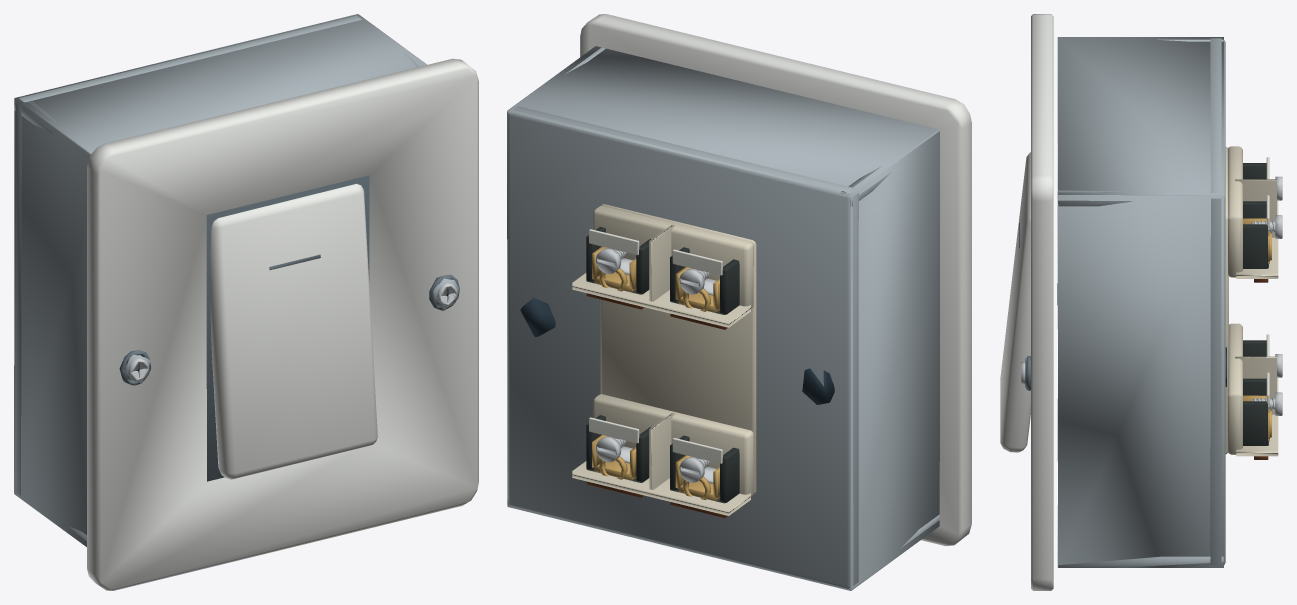
The model's file is intermediate_single-rocker.low.glb.
The picture shows the model from 3 angles, left to right: view 1: azimuth 30°, elevation 25°; view 2: azimuth 150°, elevation 25°; view 3: azimuth 270°, elevation 25°; orthographic projection. The views are drawn at different scales.
Visible parts, largest first — view 1: part:cover, part:body · Original 2a8198d3, motion:rocker, part:actuator, detail:faceplate-fixing · Detail zinc plated fixing, part:cover · Original 0905ee26; view 2: part:body · Original 2a8198d3, part:terminals · Original 5a609f27, part:cover, part:body · Original a463fd81, detail:terminal-clamp:A · Detail moulded engineering polymer, detail:terminal-clamp:C · Detail moulded engineering polymer, detail:terminal-clamp:B · Detail moulded engineering polymer, detail:terminal-clamp:D · Detail moulded engineering polymer, detail:terminal-clamp:B · Detail machined brass, detail:terminal-clamp:C · Detail machined brass, detail:terminal-clamp:A · Detail machined brass, detail:terminal-clamp:D · Detail machined brass (+8 smaller); view 3: part:body · Original 2a8198d3, part:cover, part:terminals · Original 5a609f27, motion:rocker, detail:terminal-clamp:B · Detail moulded engineering polymer, detail:terminal-clamp:D · Detail moulded engineering polymer, detail:terminal-clamp:A · Detail moulded engineering polymer, detail:terminal-clamp:C · Detail moulded engineering polymer.
Part boxes in pixels (x1,y1,x2,y2): part:cover: (87,58,478,590); part:body · Original 2a8198d3: (14,14,427,546); motion:rocker: (210,183,377,479); part:actuator: (206,175,369,481); detail:faceplate-fixing · Detail zinc plated fixing: (128,283,457,381); part:cover · Original 0905ee26: (119,274,459,385); part:body · Original 2a8198d3: (507,46,939,590); part:terminals · Original 5a609f27: (572,204,756,515); part:cover: (580,14,971,546); part:body · Original a463fd81: (520,298,834,404); detail:terminal-clamp:A · Detail moulded engineering polymer: (670,247,739,314); detail:terminal-clamp:C · Detail moulded engineering polymer: (670,435,739,503); detail:terminal-clamp:B · Detail moulded engineering polymer: (586,227,650,294); detail:terminal-clamp:D · Detail moulded engineering polymer: (586,415,651,482); detail:terminal-clamp:B · Detail machined brass: (592,246,636,292); detail:terminal-clamp:C · Detail machined brass: (675,455,719,500); detail:terminal-clamp:A · Detail machined brass: (675,267,719,312); detail:terminal-clamp:D · Detail machined brass: (592,435,636,480); part:body · Original 2a8198d3: (1057,37,1225,567); part:cover: (1031,14,1053,590); part:terminals · Original 5a609f27: (1225,146,1278,456); motion:rocker: (1000,152,1030,452); detail:terminal-clamp:B · Detail moulded engineering polymer: (1243,201,1268,268); detail:terminal-clamp:D · Detail moulded engineering polymer: (1243,378,1268,445); detail:terminal-clamp:A · Detail moulded engineering polymer: (1243,163,1266,179); detail:terminal-clamp:C · Detail moulded engineering polymer: (1243,340,1266,356).
Size of the model in its own units: 0.8902 by 0.9795 by 0.6052.
